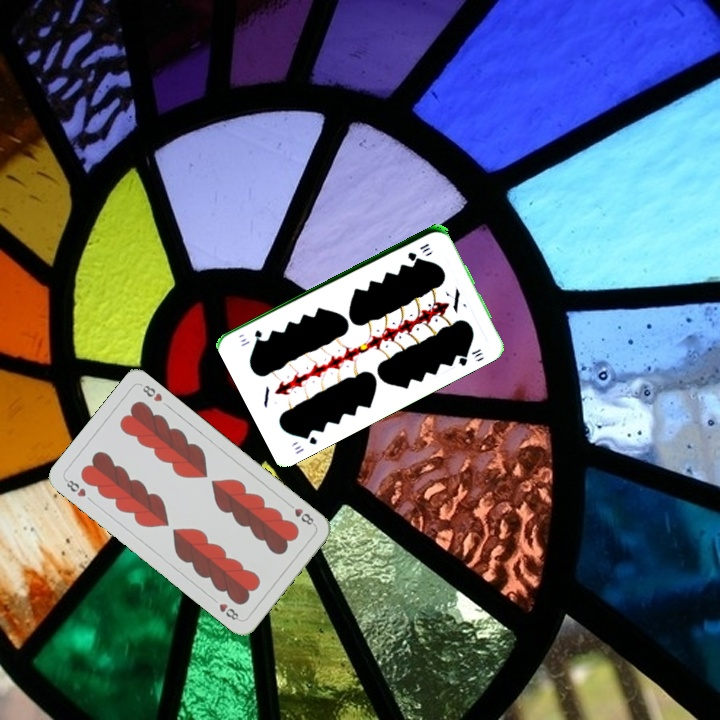G10: (291, 428, 320, 456), (404, 239, 432, 262)
H8: (283, 499, 318, 528), (61, 475, 89, 500)
